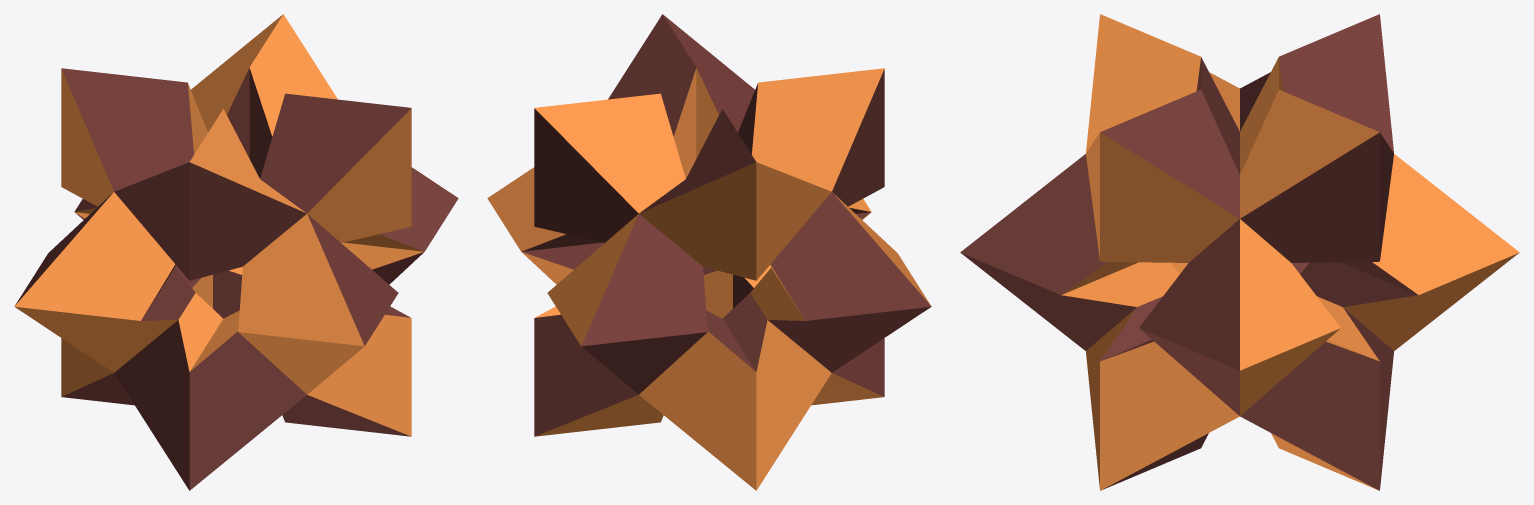
The model's file is Demon King Crystal.fbx.
The picture shows the model from 3 angles, left to right: view 1: azimuth 30°, elevation 25°; view 2: azimuth 150°, elevation 25°; view 3: azimuth 270°, elevation 25°; orthographic projection. The views are drawn at different scales.
Parts seen in each view (by area): view 1: Demon King Crystal; view 2: Demon King Crystal; view 3: Demon King Crystal.
Boxes of the visible parts, box(x1,y1,x2,y2) form: Demon King Crystal: box(14, 14, 458, 490); Demon King Crystal: box(487, 14, 931, 490); Demon King Crystal: box(960, 14, 1519, 490).
Size of the model in its own units: 55.32 by 39.12 by 55.32.
